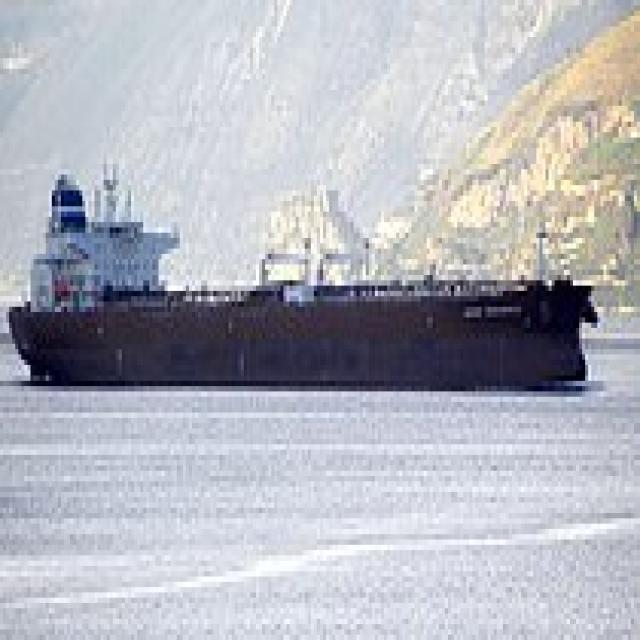Tanker: (3, 154, 600, 392)
